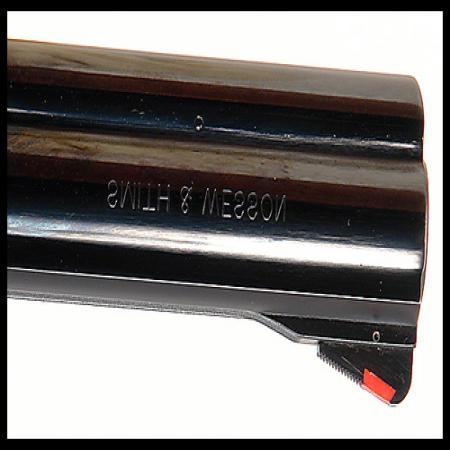Pistol: (5, 39, 428, 411)
